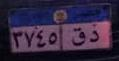3: (11, 30, 23, 50)
4: (36, 29, 46, 50)
5: (48, 32, 58, 47)
7: (23, 30, 35, 50)
daal: (89, 28, 100, 45)
qaaf: (70, 27, 86, 47)
